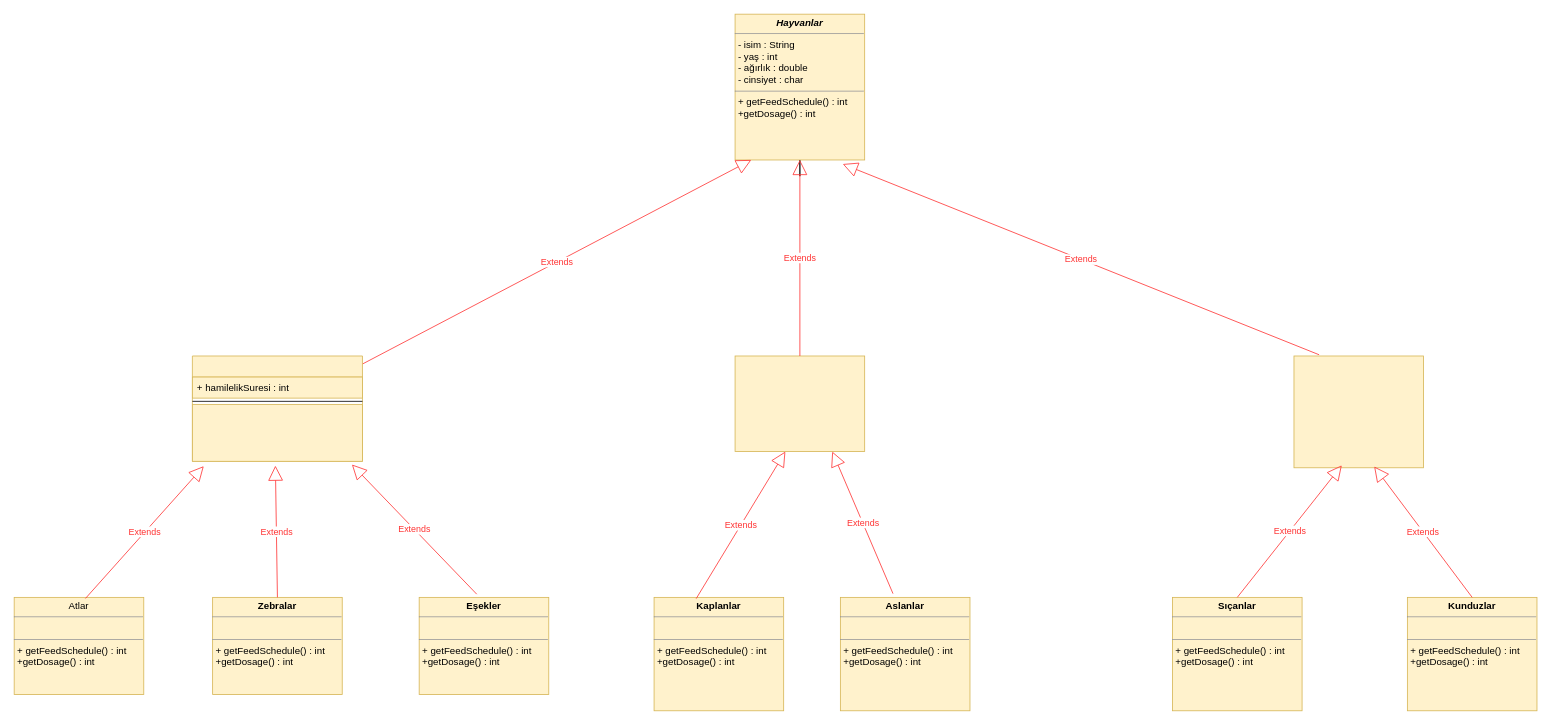
This 1551x725 diagram has some shape labels left out. The shapes that lost their labels are listed below. From the top down, each one's box as (x1, y1, x2, y2) in pixels, then its label:
(192, 355, 362, 461): At
(734, 355, 865, 452): Kedigiller + hamilelikSuresi : int + getFeedSchedule() : int +getDosage() : int
(1293, 355, 1424, 468): Kemirgenler + getFeedSchedule() : int +getDosage() : int
(192, 404, 362, 461): + getFeedSchedule() : int +getDosage() : int
